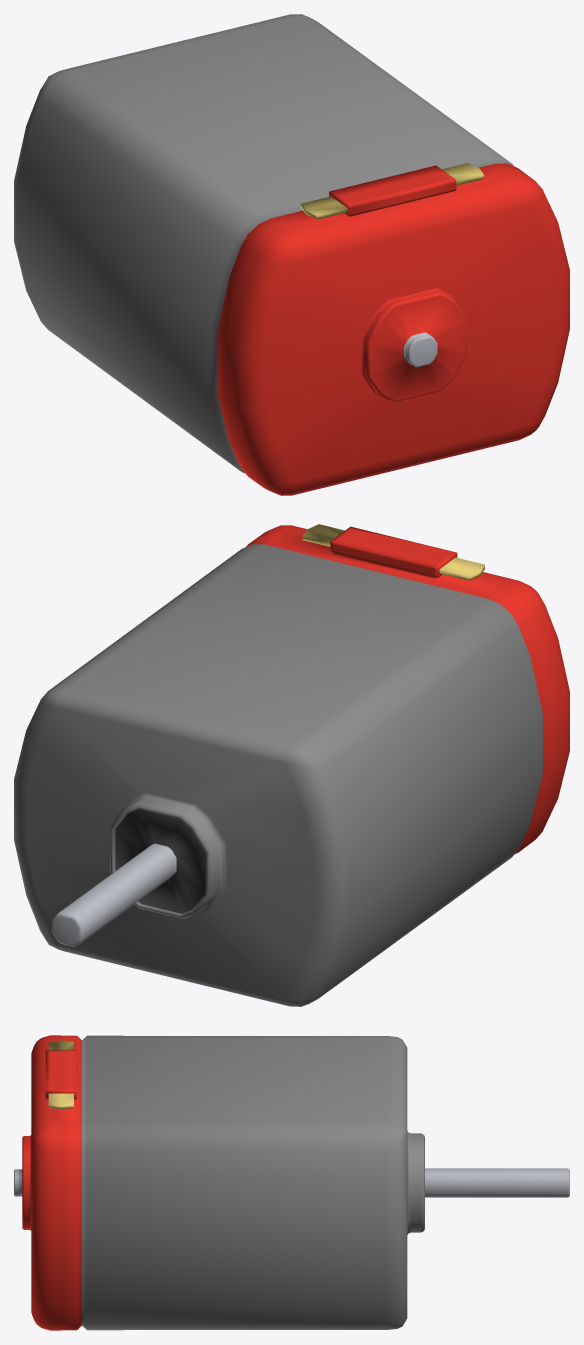
Rendered from motor.fbx.
The picture shows the model from 3 angles, top to bottom: view 1: azimuth 30°, elevation 25°; view 2: azimuth 150°, elevation 25°; view 3: azimuth 270°, elevation 25°; orthographic projection. The views are drawn at different scales.
Visible parts, largest first — view 1: motor; view 2: motor; view 3: motor.
Boxes of the visible parts, x1=… form: motor: x1=14, y1=14, x2=569, y2=495; motor: x1=14, y1=524, x2=569, y2=1006; motor: x1=14, y1=1035, x2=569, y2=1330.
Bounding box in the file's own units: 198 × 157 × 370.
